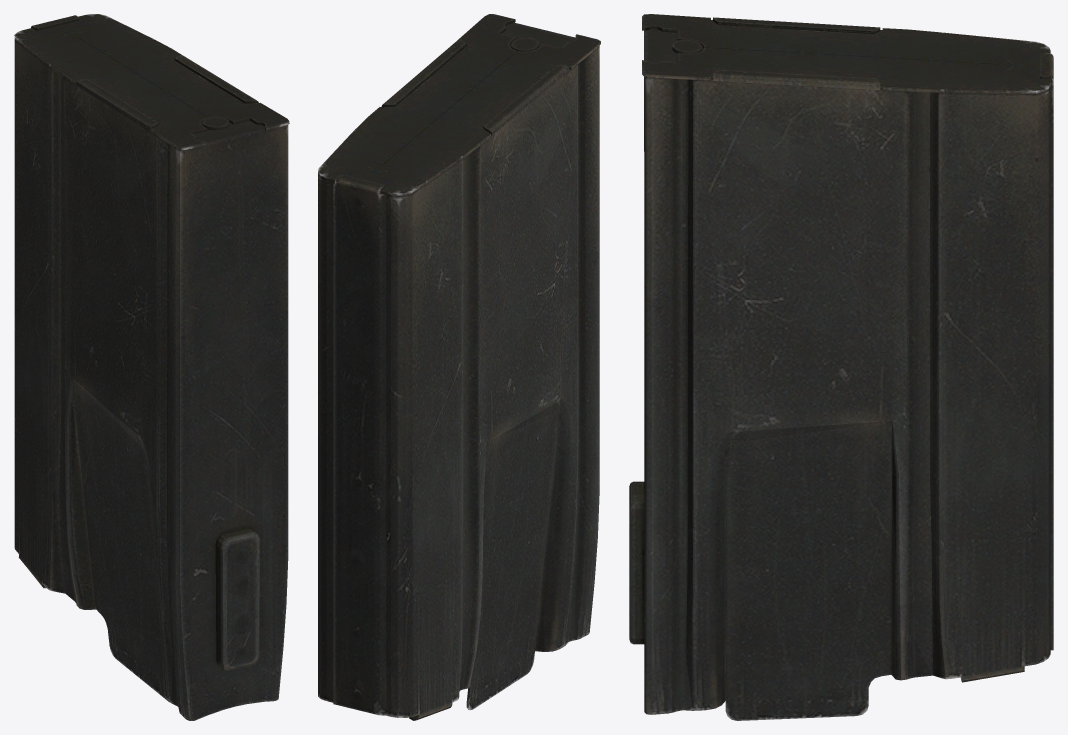
3 views of the same model, side by side, from view 1: azimuth 30°, elevation 25°; view 2: azimuth 150°, elevation 25°; view 3: azimuth 270°, elevation 25° (orthographic). The views are drawn at different scales.
Visible parts, largest first — view 1: TW_5cf12a15d7f00c05464b293f_PZ_Import; view 2: TW_5cf12a15d7f00c05464b293f_PZ_Import; view 3: TW_5cf12a15d7f00c05464b293f_PZ_Import.
Boxes of the visible parts, <box> form: TW_5cf12a15d7f00c05464b293f_PZ_Import: <box>14,14,289,720</box>; TW_5cf12a15d7f00c05464b293f_PZ_Import: <box>318,14,600,720</box>; TW_5cf12a15d7f00c05464b293f_PZ_Import: <box>629,14,1053,720</box>.
Bounding box in the file's own units: 0.0159 × 0.0468 × 0.0809.
1 material, 1 textured.
